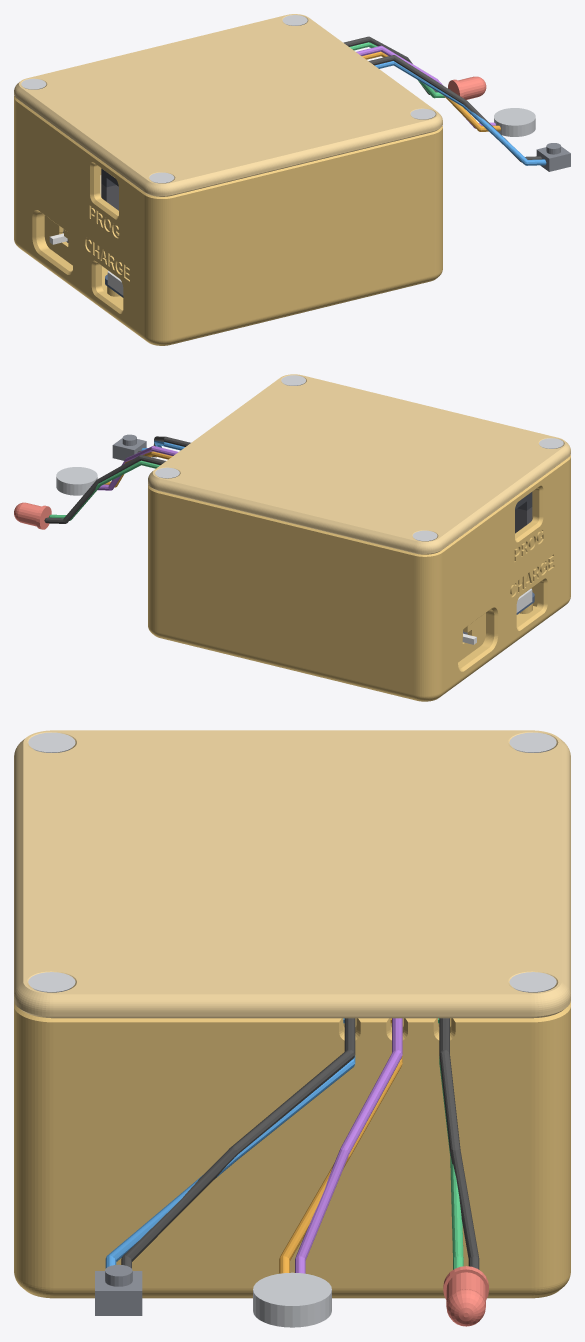
The model's file is assembly-38pin.glb.
The picture shows the model from 3 angles, top to bottom: view 1: azimuth 30°, elevation 25°; view 2: azimuth 150°, elevation 25°; view 3: azimuth 270°, elevation 25°; orthographic projection. The views are drawn at different scales.
Visible parts, largest first — view 1: Box body (printed), Lid (printed), GND (black), Coin vibration motor, Paw button, GPIO 27 (blue), 4 x M3x10 countersunk lid screws, Paw push button, LED, Motor +, after R3 (orange); view 2: Box body (printed), Lid (printed), GND (black), Coin vibration motor, 4 x M3x10 countersunk lid screws, LED, Paw push button, LED signal, GPIO 25 (green), Motor -, to collector (purple); view 3: Lid (printed), Box body (printed), GND (black), Coin vibration motor, 4 x M3x10 countersunk lid screws, Motor -, to collector (purple), Paw push button, LED, Paw button, GPIO 27 (blue), Motor +, after R3 (orange), LED signal, GPIO 25 (green).
Part boxes in pixels (bbox=[...]): Box body (printed): bbox=[14, 96, 442, 345]; Lid (printed): bbox=[14, 14, 442, 196]; GND (black): bbox=[343, 36, 541, 162]; Coin vibration motor: bbox=[494, 108, 535, 136]; Paw button, GPIO 27 (blue): bbox=[374, 61, 546, 165]; 4 x M3x10 countersunk lid screws: bbox=[21, 15, 435, 183]; Paw push button: bbox=[536, 143, 570, 171]; LED: bbox=[448, 76, 486, 99]; Motor +, after R3 (orange): bbox=[362, 51, 500, 131]; Box body (printed): bbox=[148, 455, 570, 701]; Lid (printed): bbox=[148, 374, 570, 554]; GND (black): bbox=[44, 436, 190, 523]; Coin vibration motor: bbox=[56, 467, 97, 495]; 4 x M3x10 countersunk lid screws: bbox=[155, 375, 563, 541]; LED: bbox=[14, 502, 51, 529]; Paw push button: bbox=[112, 434, 146, 460]; LED signal, GPIO 25 (green): bbox=[48, 460, 159, 520]; Motor -, to collector (purple): bbox=[91, 446, 178, 490]; Lid (printed): bbox=[14, 730, 570, 1018]; Box body (printed): bbox=[14, 1001, 570, 1298]; GND (black): bbox=[121, 1018, 479, 1269]; Coin vibration motor: bbox=[253, 1272, 331, 1327]; 4 x M3x10 countersunk lid screws: bbox=[28, 732, 556, 992]; Motor -, to collector (purple): bbox=[295, 1018, 402, 1273]; Paw push button: bbox=[95, 1264, 142, 1315]; LED: bbox=[443, 1266, 488, 1326]; Paw button, GPIO 27 (blue): bbox=[105, 1018, 355, 1268]; Motor +, after R3 (orange): bbox=[279, 1018, 402, 1273]; LED signal, GPIO 25 (green): bbox=[438, 1018, 463, 1269].
Bounding box in the file's own units: 0.1244 × 0.0425 × 0.0705.
